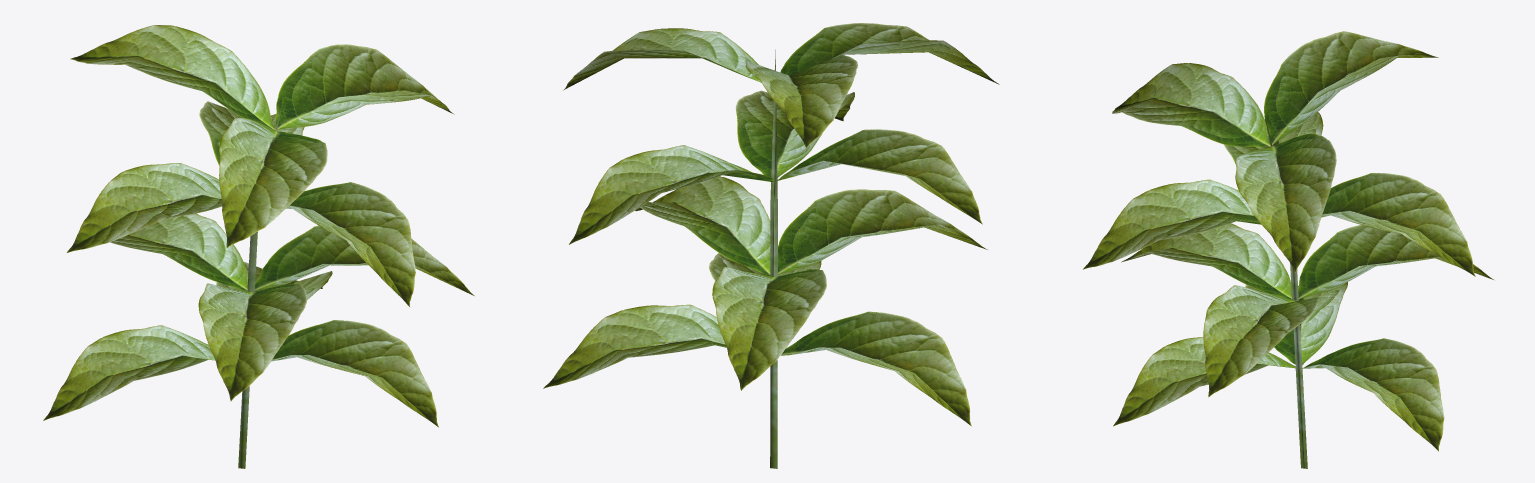
Rendered from plant_000.dae.
3 views of the same model, side by side, from view 1: azimuth 30°, elevation 25°; view 2: azimuth 150°, elevation 25°; view 3: azimuth 270°, elevation 25° (orthographic). The views are drawn at different scales.
Visible parts, largest first — view 1: Plant_000; view 2: Plant_000; view 3: Plant_000.
Boxes of the visible parts, bbox=[...] form: Plant_000: bbox=[43, 25, 474, 468]; Plant_000: bbox=[543, 23, 999, 468]; Plant_000: bbox=[1083, 31, 1493, 468].
Size of the model in its own units: 2.02 by 1.92 by 2.02.
